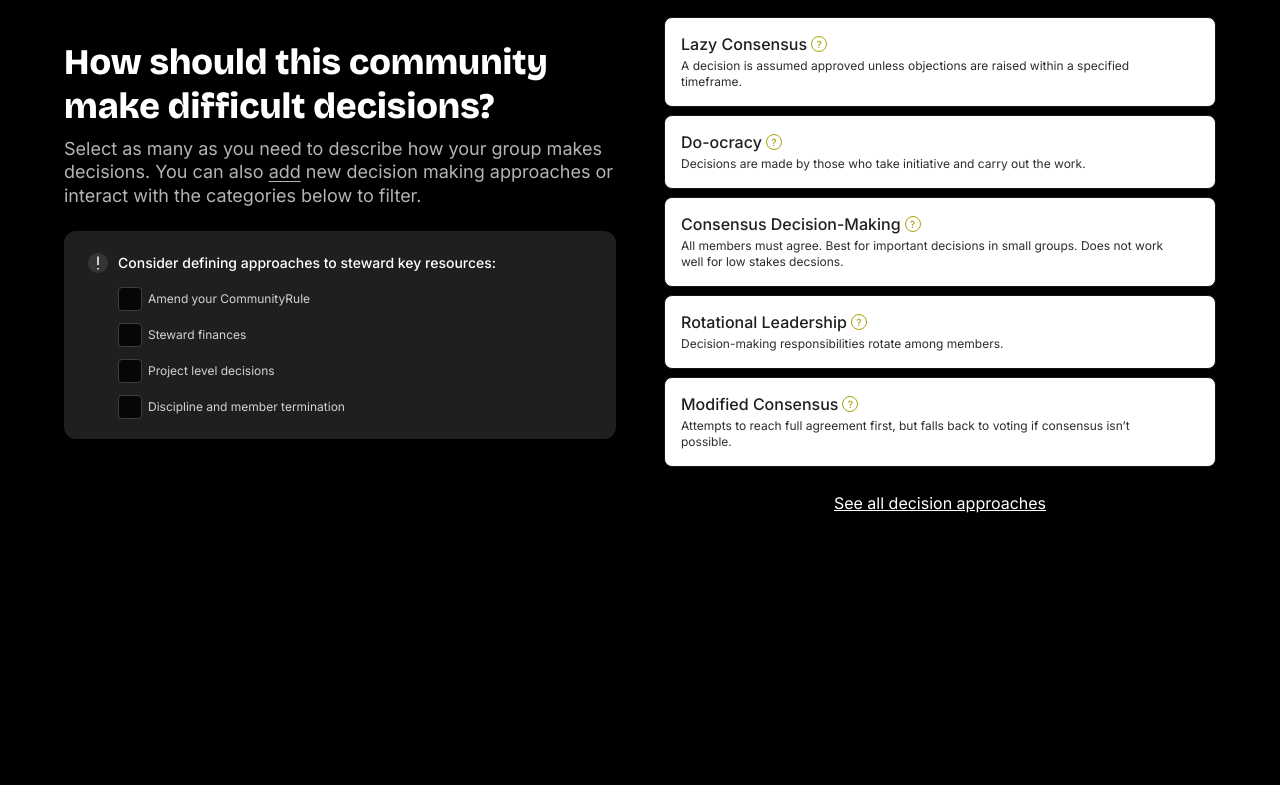
Scenario: Create flow decision-approaches page › toggle expands and shows Show less
Click the button "See all decision approaches": (940, 503) [834, 491, 1046, 515]
(page scrolled)
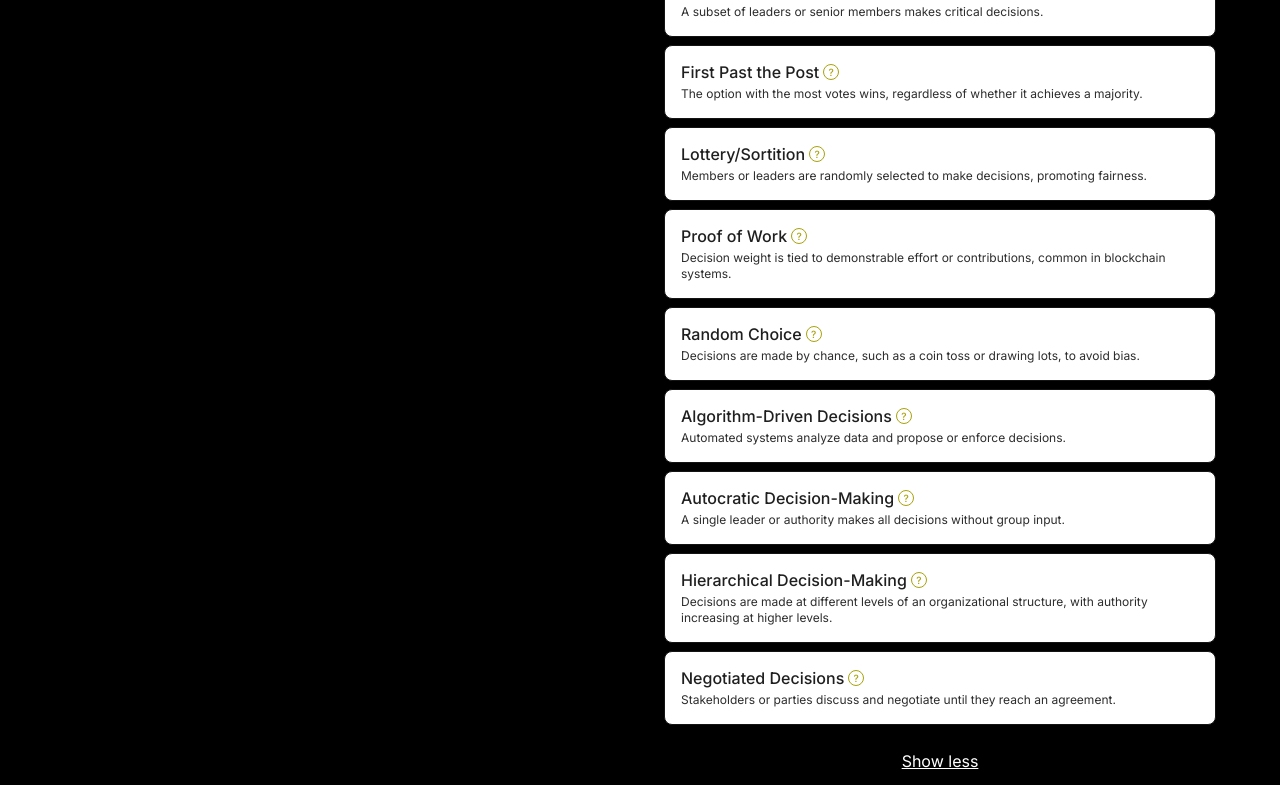
Check: the button "Show less" is shown, box [902, 749, 978, 773]
